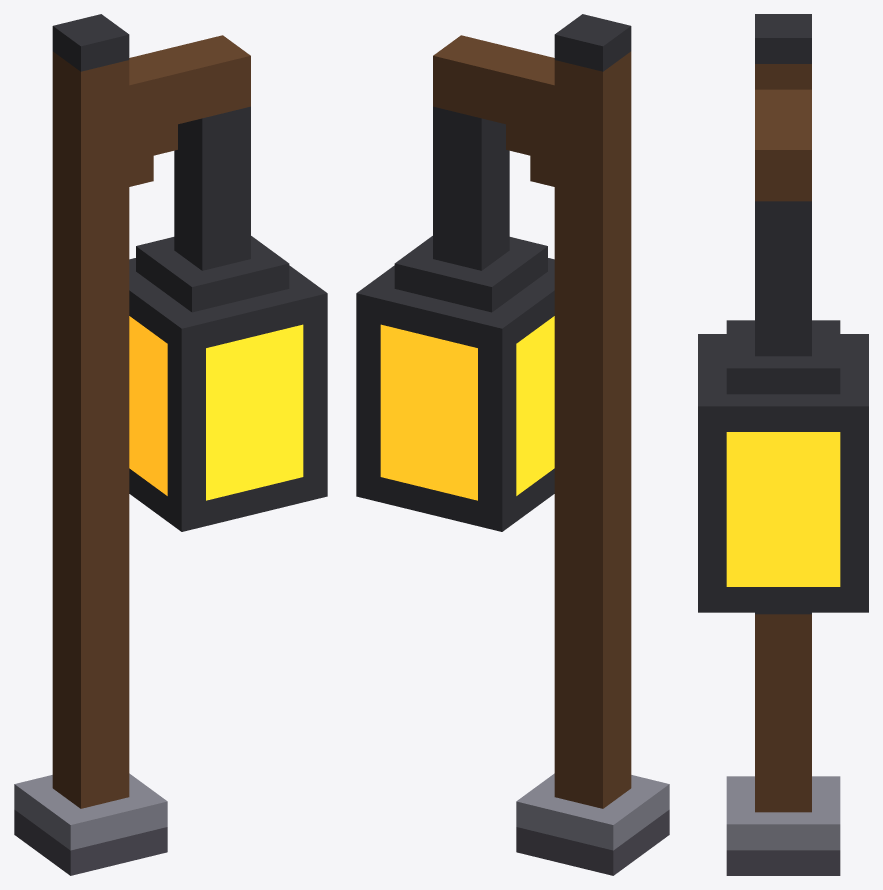
File: Lobby_Lantern.glb
The picture shows the model from 3 angles, left to right: view 1: azimuth 30°, elevation 25°; view 2: azimuth 150°, elevation 25°; view 3: azimuth 270°, elevation 25°; orthographic projection.
Parts seen in each view (by area): view 1: Lantern_wood, Lantern_iron, Lantern_lanternGlow, Lantern_stoneMid, Lantern_stoneDark; view 2: Lantern_wood, Lantern_iron, Lantern_lanternGlow, Lantern_stoneMid, Lantern_stoneDark; view 3: Lantern_iron, Lantern_wood, Lantern_lanternGlow, Lantern_stoneMid, Lantern_stoneDark.
Boxes of the visible parts, left/top/right/bottom form: Lantern_wood: left=52, top=35, right=250, bottom=808; Lantern_iron: left=52, top=14, right=327, bottom=531; Lantern_lanternGlow: left=129, top=316, right=303, bottom=500; Lantern_stoneMid: left=14, top=773, right=167, bottom=850; Lantern_stoneDark: left=14, top=809, right=167, bottom=875; Lantern_wood: left=433, top=35, right=631, bottom=808; Lantern_iron: left=356, top=14, right=631, bottom=531; Lantern_lanternGlow: left=380, top=316, right=554, bottom=500; Lantern_stoneMid: left=516, top=773, right=669, bottom=850; Lantern_stoneDark: left=516, top=809, right=669, bottom=875; Lantern_iron: left=698, top=14, right=868, bottom=614; Lantern_wood: left=755, top=64, right=811, bottom=812; Lantern_lanternGlow: left=726, top=432, right=840, bottom=586; Lantern_stoneMid: left=726, top=776, right=840, bottom=850; Lantern_stoneDark: left=726, top=850, right=840, bottom=875.
Bounding box in the file's own units: 0.5 × 1.6 × 0.3.
